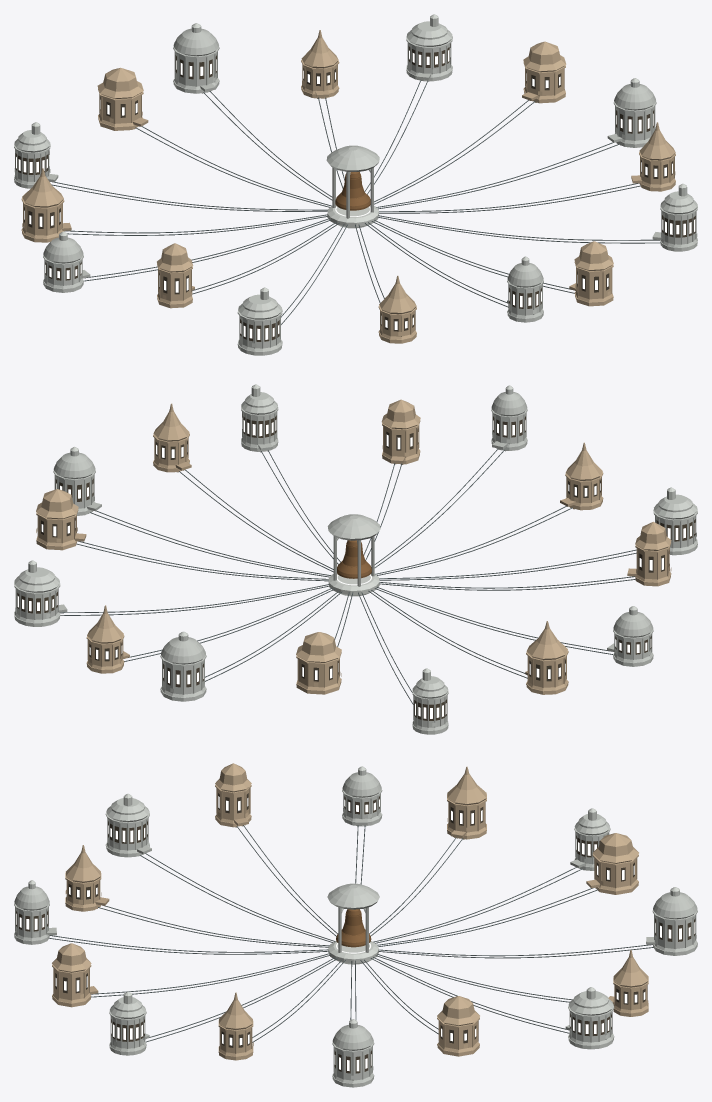
Rendered from halo.glb.
3 views of the same model, one above another, from view 1: azimuth 30°, elevation 25°; view 2: azimuth 150°, elevation 25°; view 3: azimuth 270°, elevation 25° (orthographic). The views are drawn at different scales.
Parts seen in each view (by area): view 1: Tethers, Chapel_05 shell, Chapel_06 shell, Chapel_03 shell, BellBuoy, Chapel_01 shell, Chapel_11 shell, Chapel_08 shell, Chapel_02 shell, Chapel_14 shell, Chapel_15 shell, Chapel_09 shell (+7 smaller); view 2: Tethers, Chapel_05 shell, Chapel_03 shell, BellBuoy, Chapel_06 shell, Chapel_02 shell, Chapel_08 shell, Chapel_14 shell, Chapel_09 shell, Chapel_10 shell, Chapel_11 shell, Chapel_15 shell (+7 smaller); view 3: Tethers, Chapel_05 shell, Chapel_06 shell, Chapel_03 shell, Chapel_01 shell, Chapel_11 shell, BellBuoy, Chapel_14 shell, Chapel_02 shell, Chapel_08 shell, Chapel_10 shell, Chapel_15 shell (+7 smaller).
Part boxes in pixels (x1,y1,x2,y2): Tethers: (51, 80, 660, 324); Chapel_05 shell: (173, 23, 219, 93); Chapel_06 shell: (97, 67, 148, 130); Chapel_03 shell: (406, 14, 452, 81); BellBuoy: (326, 145, 379, 228); Chapel_01 shell: (607, 78, 656, 147); Chapel_11 shell: (237, 287, 282, 355); Chapel_08 shell: (21, 168, 71, 242); Chapel_02 shell: (522, 41, 566, 103); Chapel_14 shell: (569, 241, 613, 306); Chapel_15 shell: (652, 183, 697, 251); Chapel_09 shell: (43, 231, 90, 292); Tethers: (60, 448, 636, 704); Chapel_05 shell: (160, 631, 206, 701); Chapel_03 shell: (14, 560, 67, 626); BellBuoy: (327, 514, 380, 596); Chapel_06 shell: (296, 632, 341, 694); Chapel_02 shell: (36, 489, 86, 550); Chapel_08 shell: (525, 621, 568, 694); Chapel_14 shell: (381, 399, 420, 464); Chapel_09 shell: (607, 606, 653, 666); Chapel_10 shell: (627, 521, 671, 586); Chapel_11 shell: (653, 487, 697, 555); Chapel_15 shell: (241, 384, 278, 452); Tethers: (49, 825, 653, 1042); Chapel_05 shell: (646, 887, 697, 955); Chapel_06 shell: (586, 833, 638, 894); Chapel_03 shell: (565, 987, 614, 1049); Chapel_01 shell: (332, 1019, 374, 1087); Chapel_11 shell: (105, 793, 151, 857); BellBuoy: (327, 883, 379, 964); Chapel_14 shell: (52, 943, 98, 1007); Chapel_02 shell: (437, 996, 479, 1056); Chapel_08 shell: (447, 766, 486, 839); Chapel_10 shell: (215, 763, 251, 827); Chapel_15 shell: (109, 991, 149, 1055).
Size of the model in its own units: 778 by 110 by 780.
